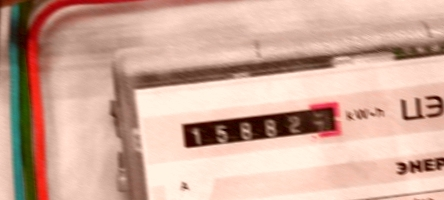1: (188, 125, 202, 145)
2: (287, 113, 300, 133)
5: (213, 122, 227, 143)
7: (312, 118, 325, 133)
8: (238, 119, 252, 141), (263, 117, 277, 139)
screen: (172, 95, 350, 157)
